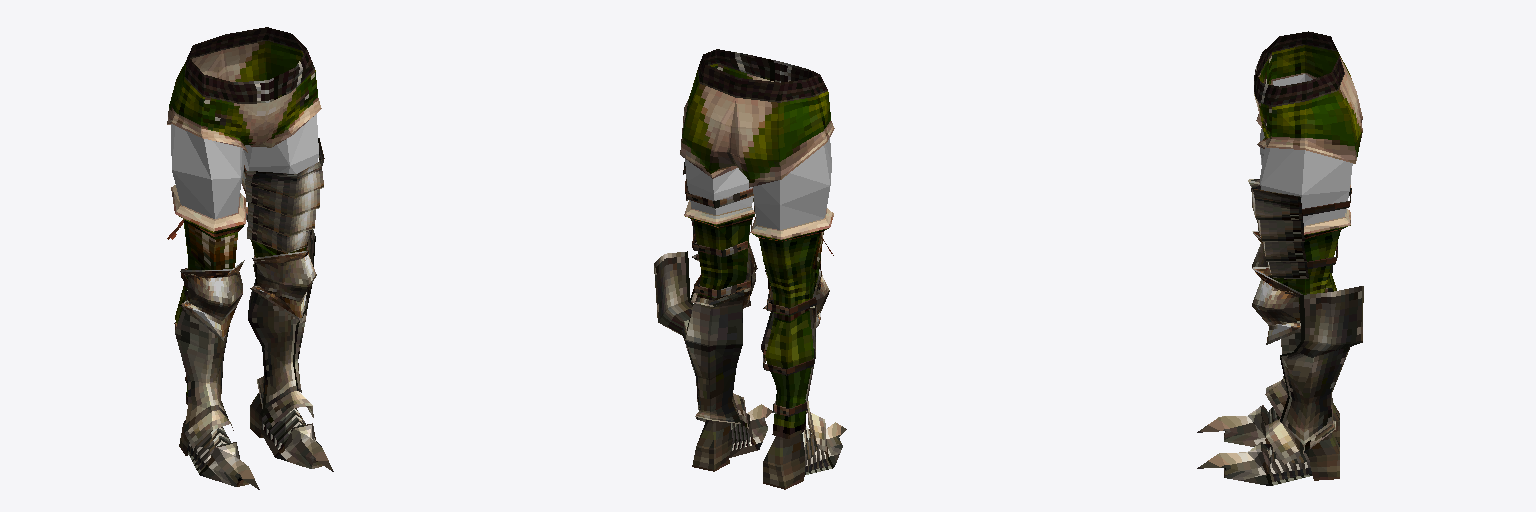
3 renders of one model, left to right at view 1: azimuth 30°, elevation 25°; view 2: azimuth 150°, elevation 25°; view 3: azimuth 270°, elevation 25°, orthographic.
Parts seen in each view (by area): view 1: mesh00; view 2: mesh00; view 3: mesh00.
Boxes of the visible parts, box(x1,y1,x2,y2) form: mesh00: box(167, 27, 333, 489); mesh00: box(654, 49, 846, 489); mesh00: box(1197, 31, 1363, 485).
Bounding box in the file's own units: 44.7 × 110 × 41.68.
2 materials, 1 textured.